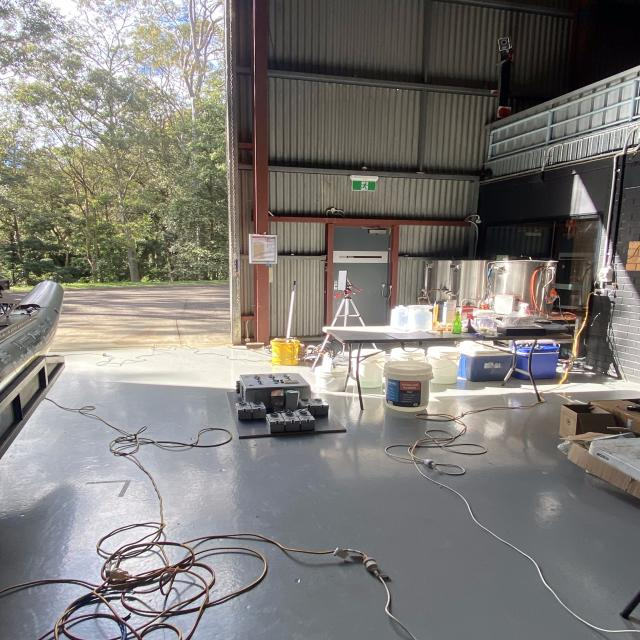matrix: (332, 266, 352, 297)
